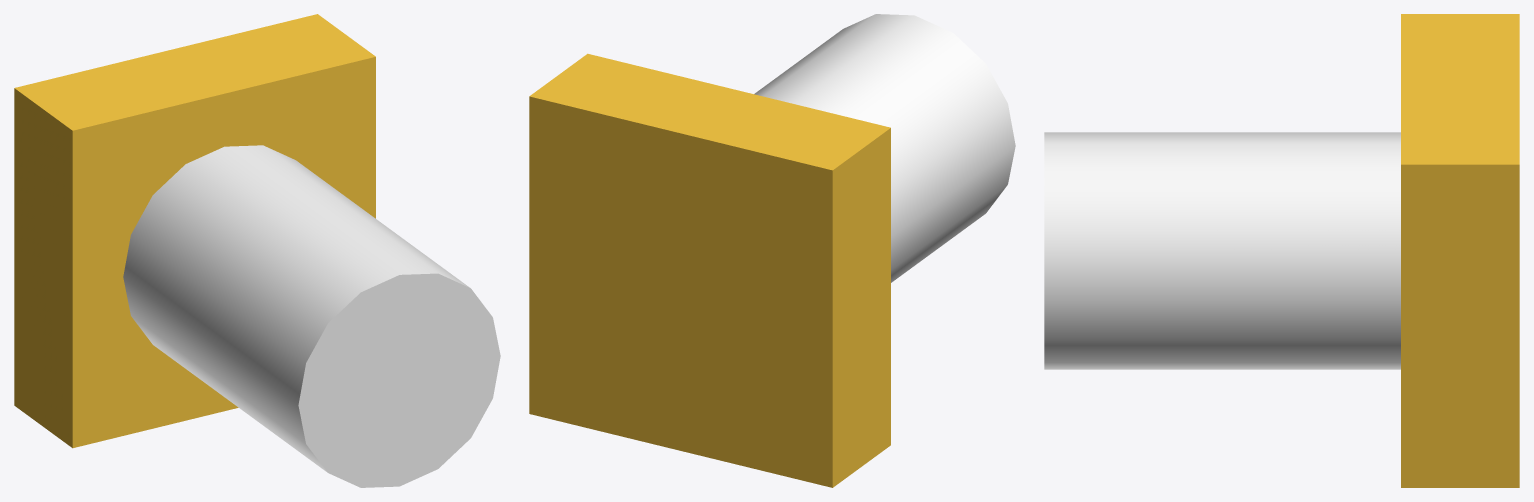
File: MDLSat_MainBody.obj
The picture shows the model from 3 angles, left to right: view 1: azimuth 30°, elevation 25°; view 2: azimuth 150°, elevation 25°; view 3: azimuth 270°, elevation 25°; orthographic projection.
Parts seen in each view (by area): view 1: Cube2_SILVER_KAPTON, Cube2_GOLD_KAPTON; view 2: Cube2_GOLD_KAPTON, Cube2_SILVER_KAPTON; view 3: Cube2_SILVER_KAPTON, Cube2_GOLD_KAPTON.
Part boxes in pixels (x1,y1,x2,y2): Cube2_SILVER_KAPTON: (123, 145, 500, 487); Cube2_GOLD_KAPTON: (14, 14, 375, 448); Cube2_GOLD_KAPTON: (529, 53, 890, 487); Cube2_SILVER_KAPTON: (754, 14, 1015, 282); Cube2_SILVER_KAPTON: (1044, 132, 1400, 369); Cube2_GOLD_KAPTON: (1401, 14, 1519, 487).
Bounding box in the file's own units: 3 × 3 × 4.
